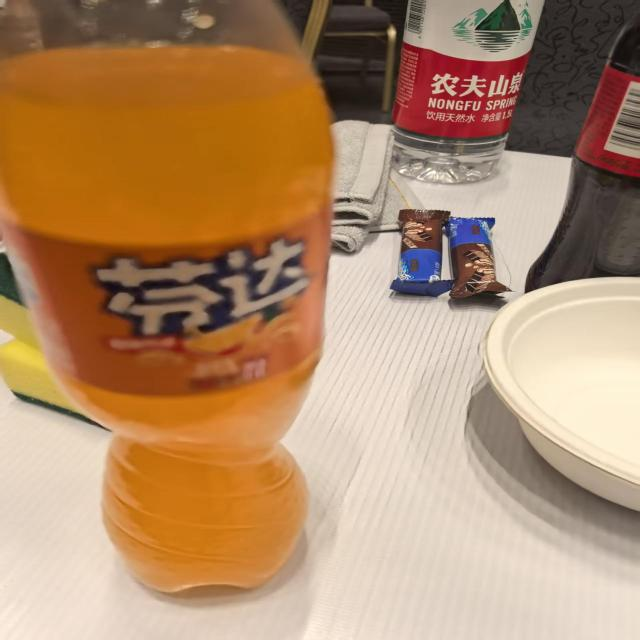orange: (82, 232, 319, 362)
